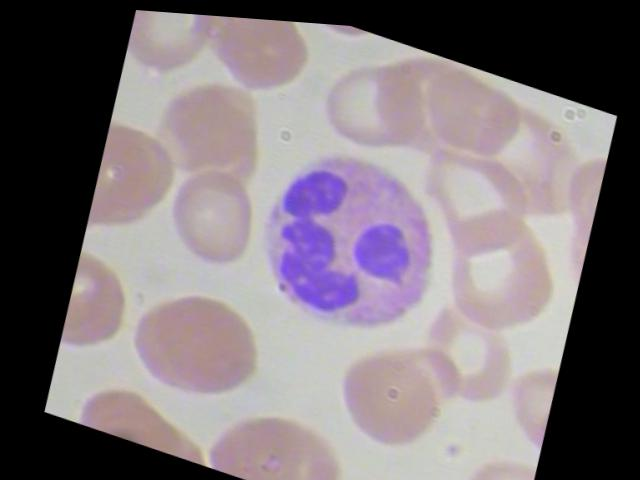Red Blood Cells: (114, 264, 270, 418), (428, 180, 570, 342), (399, 105, 542, 263), (318, 323, 447, 454), (190, 385, 358, 479), (151, 149, 265, 279), (309, 34, 422, 165), (401, 286, 520, 403), (59, 366, 184, 453), (122, 7, 232, 89), (282, 16, 398, 56), (446, 432, 536, 479)
White Blood Cells: (233, 106, 463, 357)
